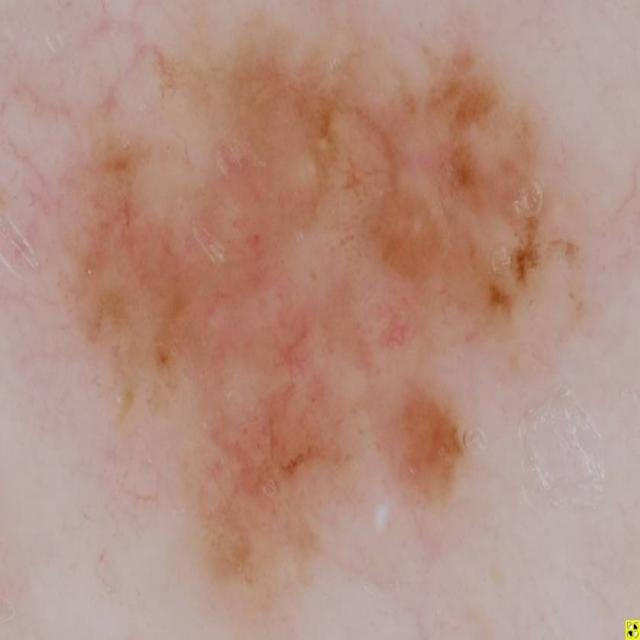Melanoma: (58, 44, 591, 570)
